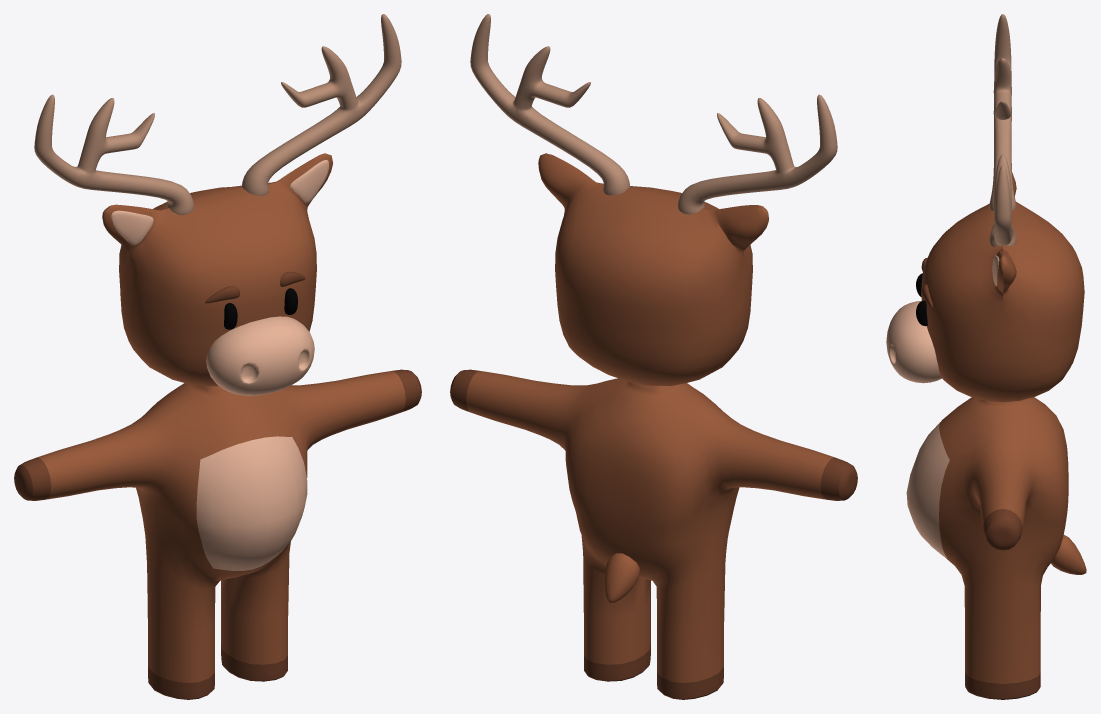
Rendered from toy.fbx.
3 renders of one model, left to right at view 1: azimuth 30°, elevation 25°; view 2: azimuth 150°, elevation 25°; view 3: azimuth 270°, elevation 25°, orthographic. The views are drawn at different scales.
Visible parts, largest first — view 1: Cube.001; view 2: Cube.001; view 3: Cube.001.
Boxes of the visible parts, x1,y1,x2,y2 form: Cube.001: (14, 14, 421, 699); Cube.001: (450, 14, 857, 699); Cube.001: (886, 14, 1086, 699).
Bounding box in the file's own units: 388 × 582 × 182.
1 material, 1 textured.
